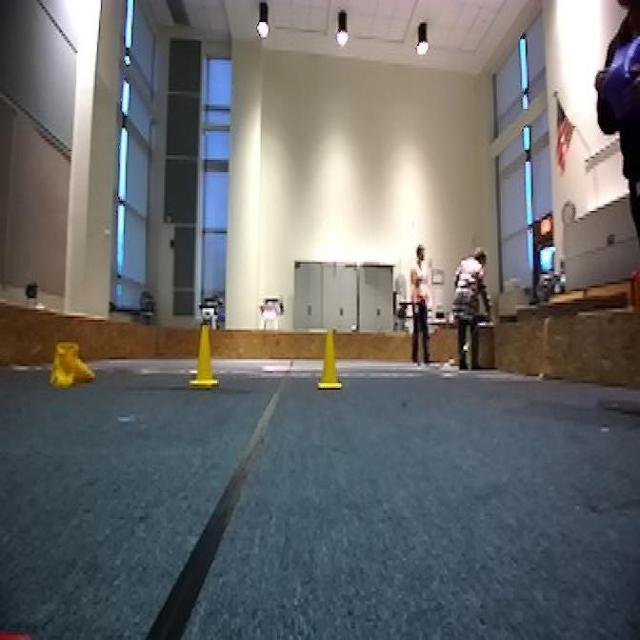frc_cone: (189, 325, 221, 388), (315, 334, 347, 389), (48, 346, 92, 384)
frc_cube: (595, 39, 640, 138)
